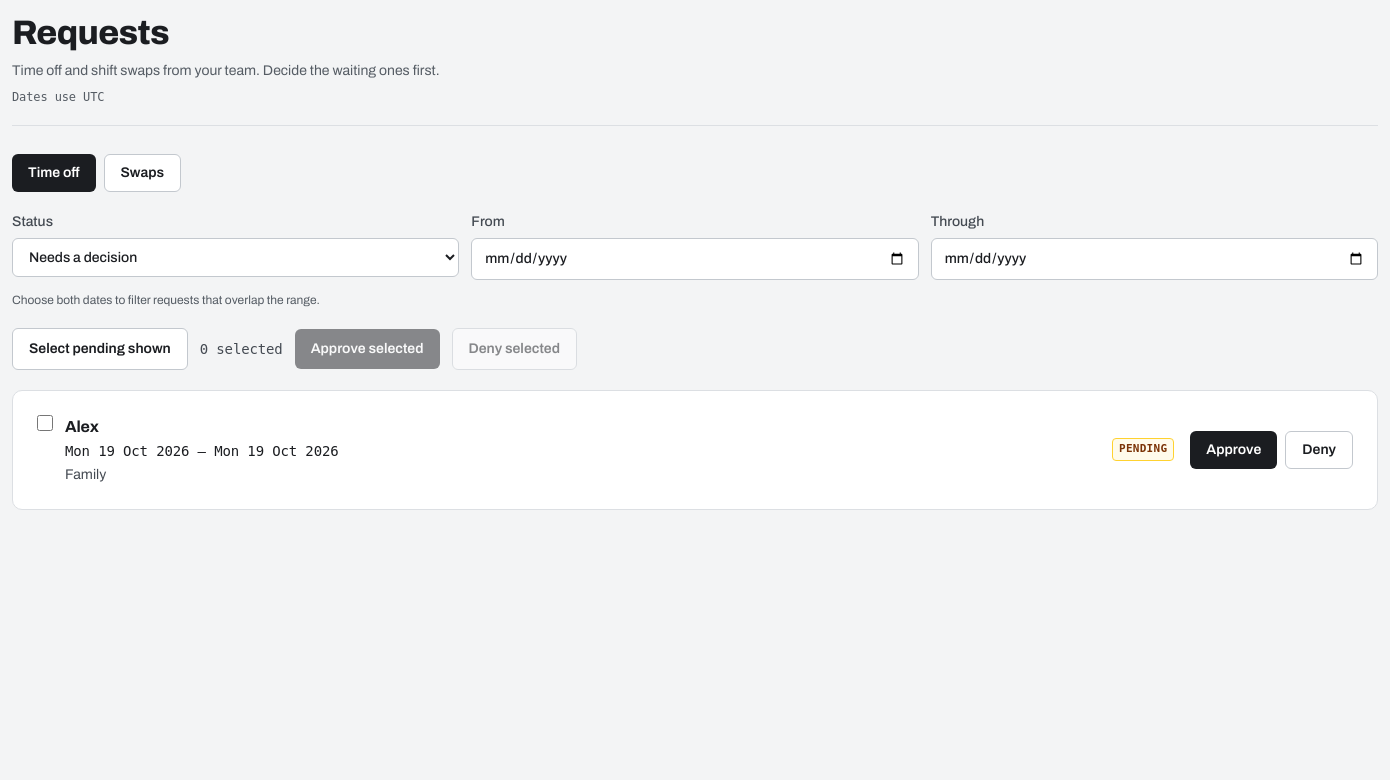
Test: filters the requests inbox and displays individual batch failures
The image size is (1390, 780).
Check: the text "Family" is shown, box [65,466,106,482]
Select "Pending" in the dropdown labelled "Status" at (236, 257), box [12,238,459,276]
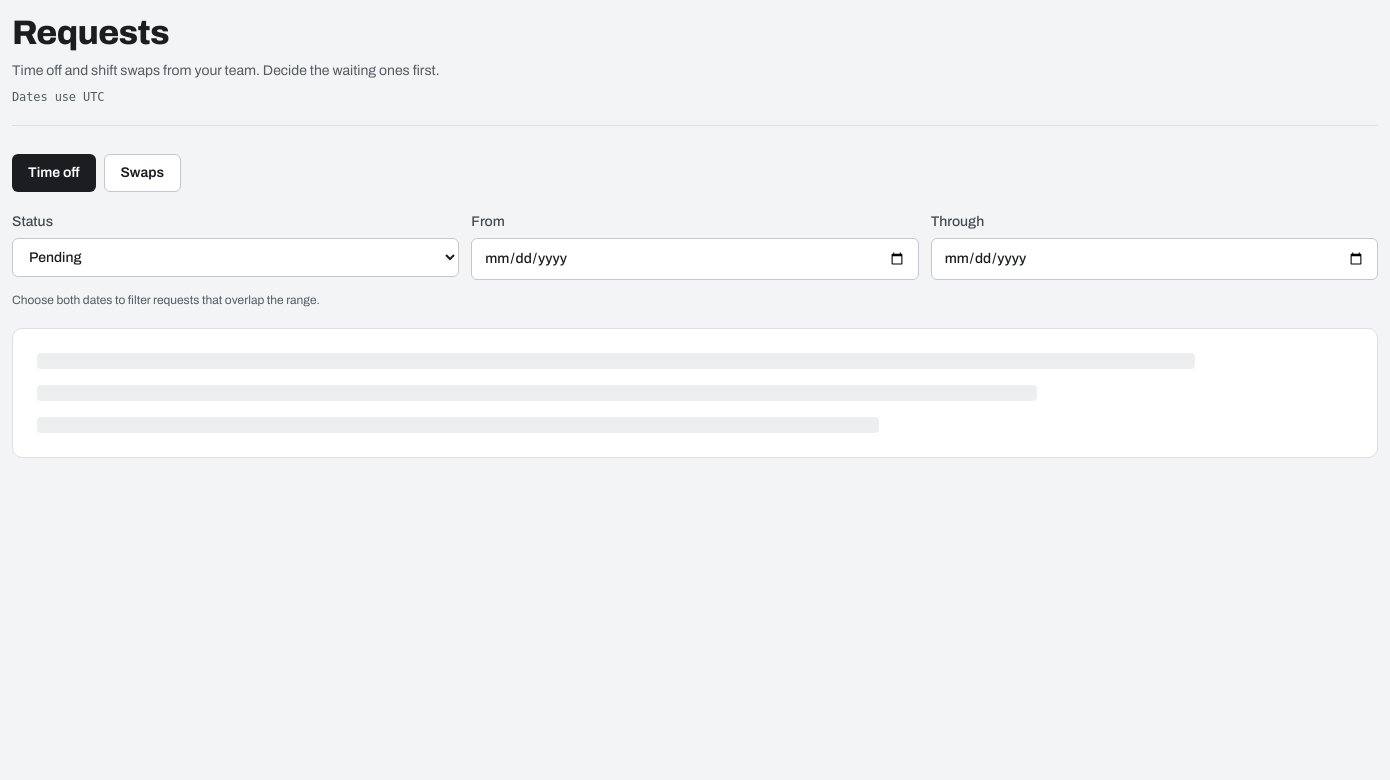
Type "2026-10-19" into the date field labelled "From" at (695, 258), box [471,238,919,280]
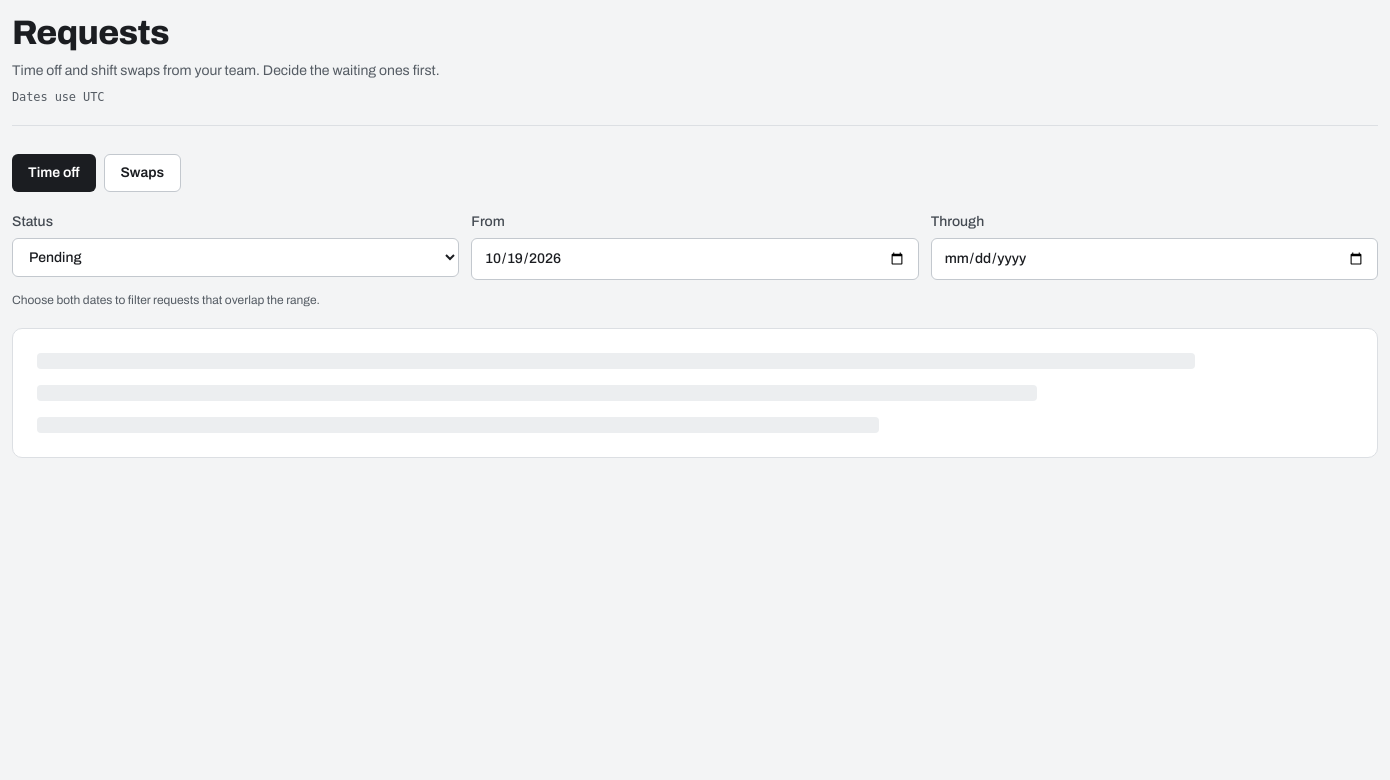
Type "2026-10-25" into the date field labelled "Through" at (1154, 258), box [931,238,1378,280]
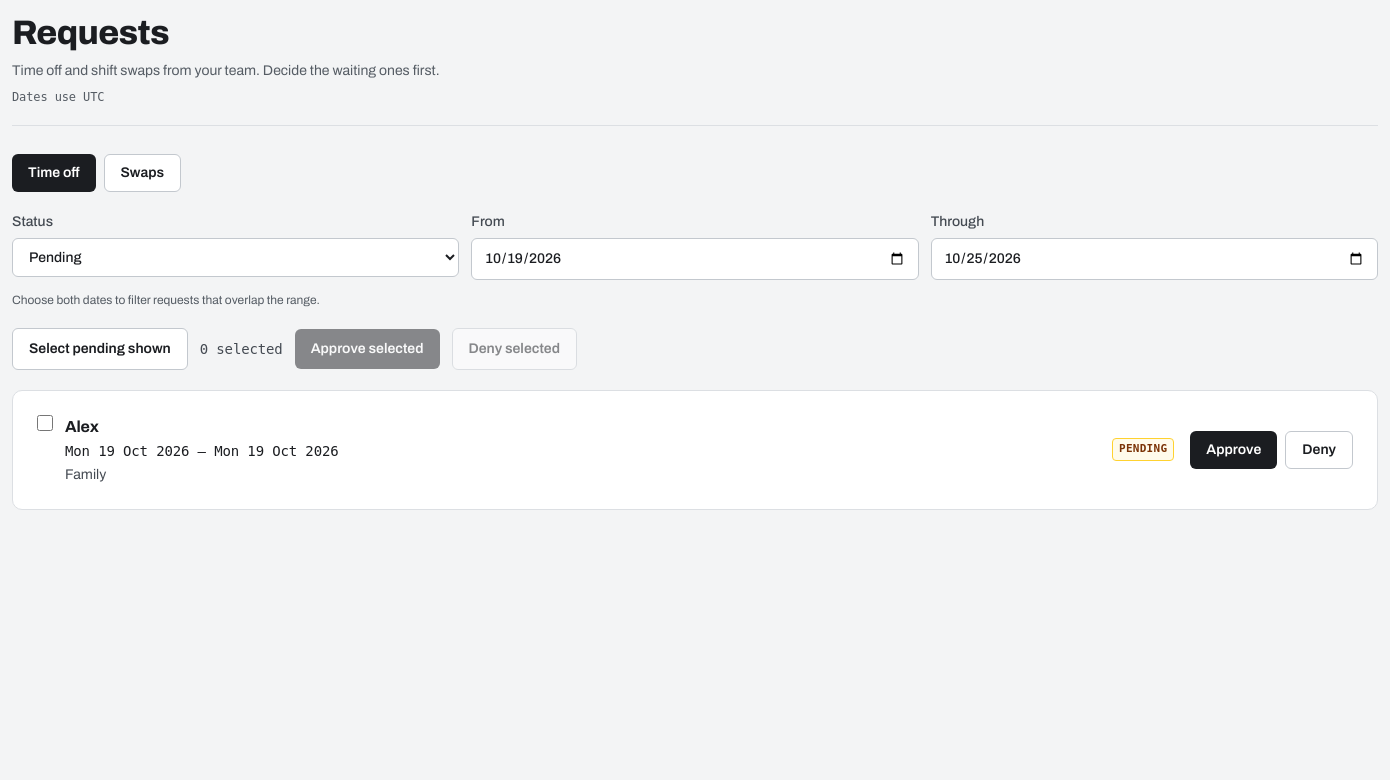
Check: the button "Select pending shown" is enabled
Click the button "Select pending shown" at (100, 348), box [12,328,188,370]
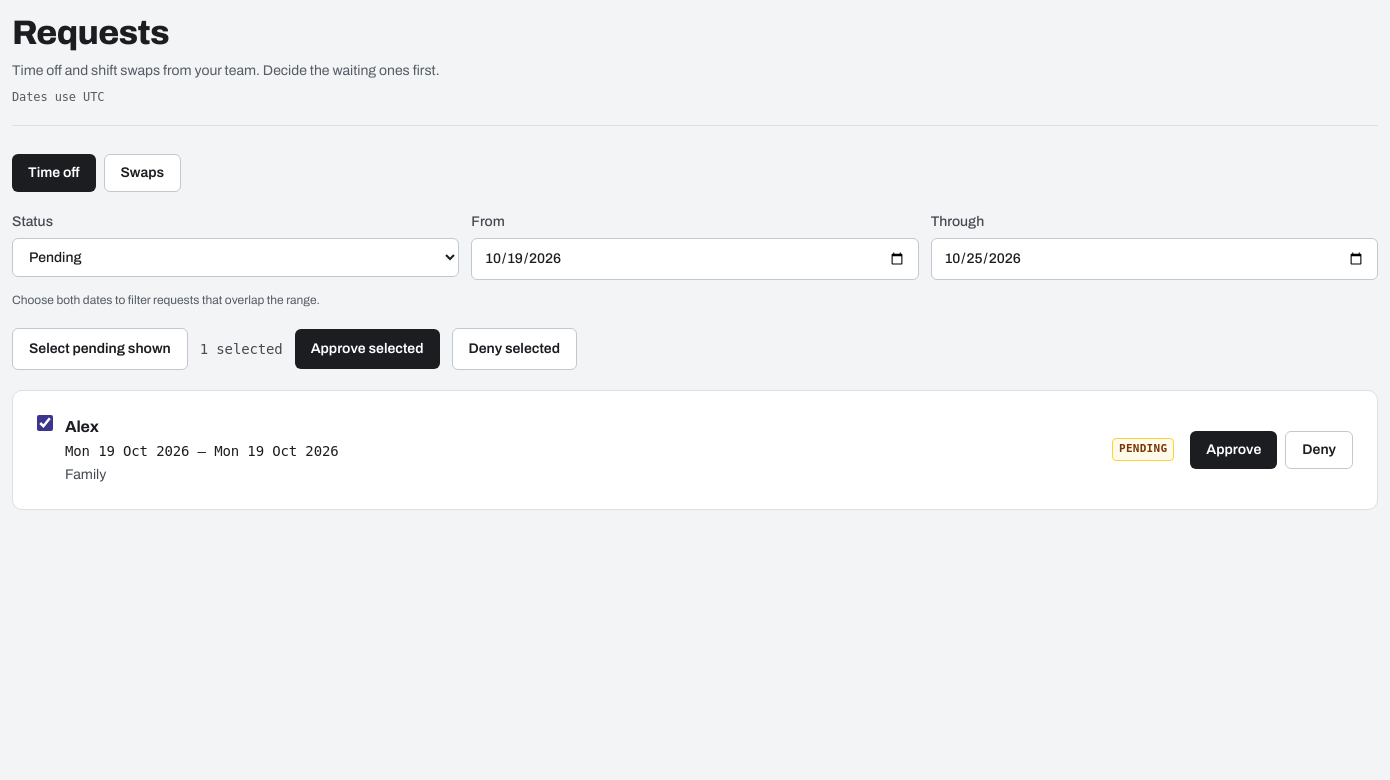
Click the button "Approve selected" at (367, 348), box [295,328,440,368]
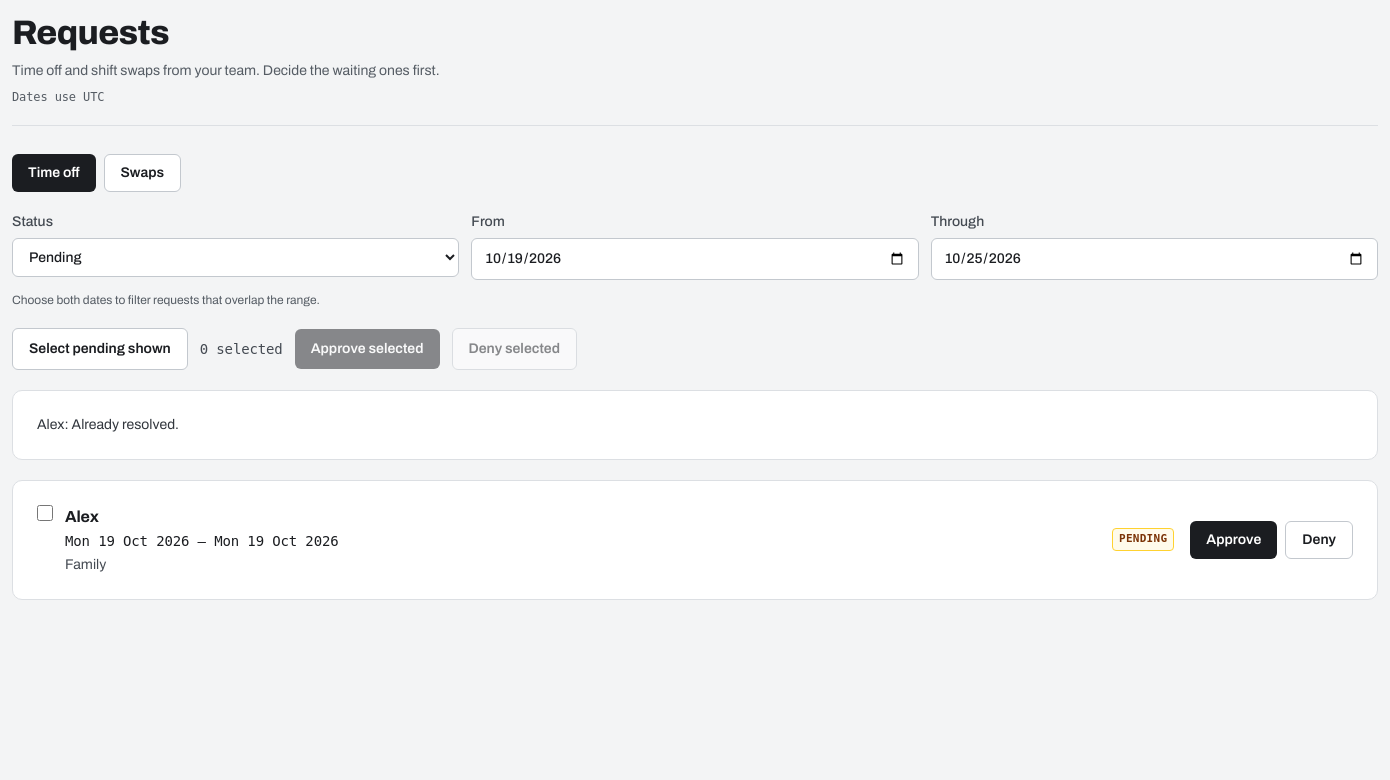
Check: the list item "Alex: Already resolved." is shown, box [37,416,179,432]
